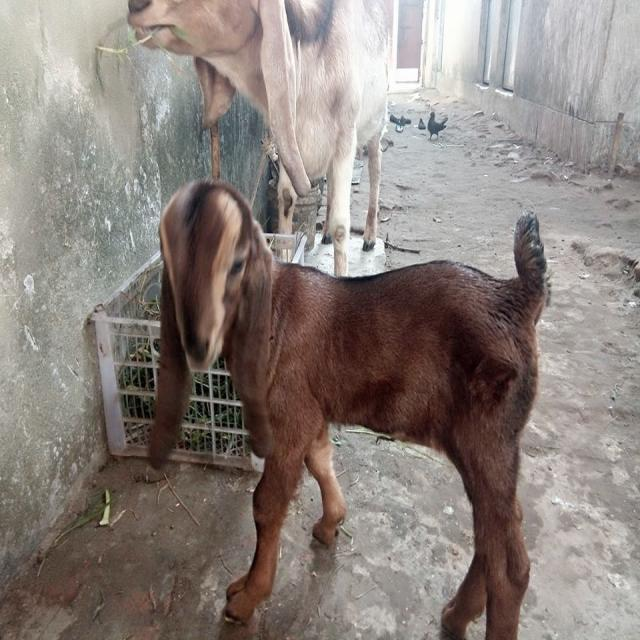Goat: (147, 177, 550, 638), (125, 0, 389, 276)
